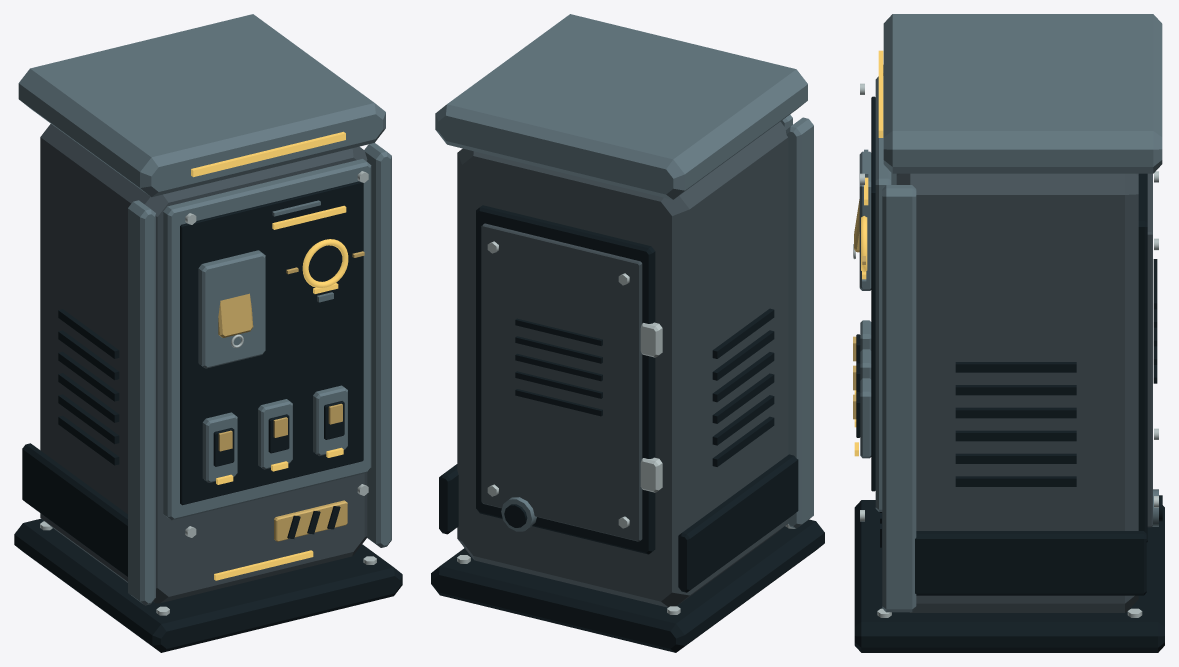
The model's file is light-console-el01.glb.
3 views of the same model, side by side, from view 1: azimuth 30°, elevation 25°; view 2: azimuth 150°, elevation 25°; view 3: azimuth 270°, elevation 25° (orthographic). The views are drawn at different scales.
Visible parts, largest first — view 1: EL01_Visual_EL01_AnodizedFrame, EL01_Visual_EL01_Recesses, EL01_Visual_EL01_CeramicPaint, EL01_Status, EL01_Visual_EL01_SafetyMarkings, EL01_Visual_EL01_MachinedAlloy; view 2: EL01_Visual_EL01_CeramicPaint, EL01_Visual_EL01_AnodizedFrame, EL01_Visual_EL01_Recesses, EL01_Visual_EL01_MachinedAlloy; view 3: EL01_Visual_EL01_CeramicPaint, EL01_Visual_EL01_AnodizedFrame, EL01_Visual_EL01_Recesses, EL01_Status, EL01_Visual_EL01_MachinedAlloy, EL01_Visual_EL01_SafetyMarkings.
Boxes of the visible parts, left/top/right/bottom form: EL01_Visual_EL01_AnodizedFrame: left=18, top=14, right=391, bottom=605; EL01_Visual_EL01_Recesses: left=14, top=181, right=402, bottom=652; EL01_Visual_EL01_CeramicPaint: left=40, top=124, right=367, bottom=603; EL01_Status: left=191, top=131, right=348, bottom=580; EL01_Visual_EL01_SafetyMarkings: left=218, top=251, right=364, bottom=541; EL01_Visual_EL01_MachinedAlloy: left=40, top=171, right=376, bottom=615; EL01_Visual_EL01_CeramicPaint: left=457, top=121, right=788, bottom=607; EL01_Visual_EL01_AnodizedFrame: left=435, top=14, right=813, bottom=531; EL01_Visual_EL01_Recesses: left=431, top=205, right=824, bottom=652; EL01_Visual_EL01_MachinedAlloy: left=457, top=241, right=795, bottom=614; EL01_Visual_EL01_CeramicPaint: left=896, top=173, right=1152, bottom=612; EL01_Visual_EL01_AnodizedFrame: left=859, top=14, right=1162, bottom=612; EL01_Visual_EL01_Recesses: left=854, top=96, right=1164, bottom=652; EL01_Status: left=854, top=50, right=883, bottom=456; EL01_Visual_EL01_MachinedAlloy: left=853, top=83, right=1158, bottom=617; EL01_Visual_EL01_SafetyMarkings: left=853, top=199, right=865, bottom=419.
Size of the model in its own units: 0.594 by 1.09 by 0.593.
